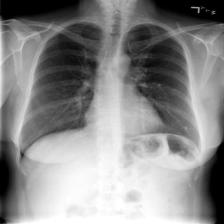normal: (14, 15, 205, 163)
